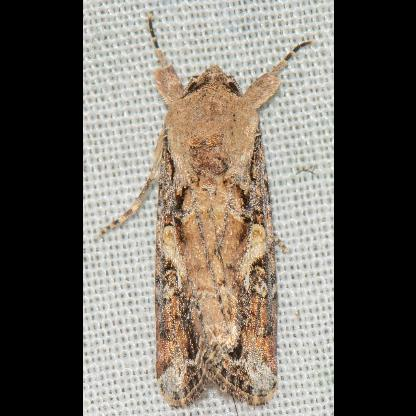Fall Armyworm Moth: (95, 11, 320, 413)
